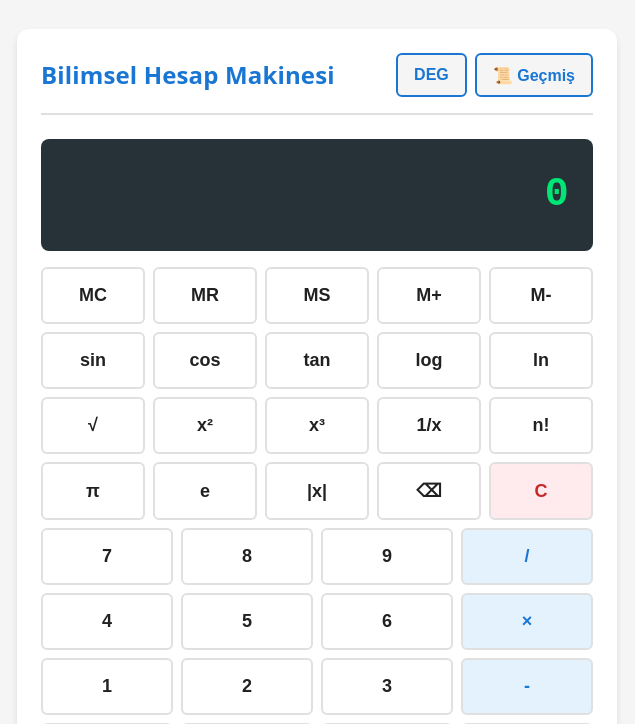
Test: ScientificCalculator › History Management › should toggle history panel
The width and height of the screenshot is (635, 724).
Click the button with aria-label "Geçmişi göster/gizle" at [534, 75], box [475, 53, 593, 97]
(page scrolled)
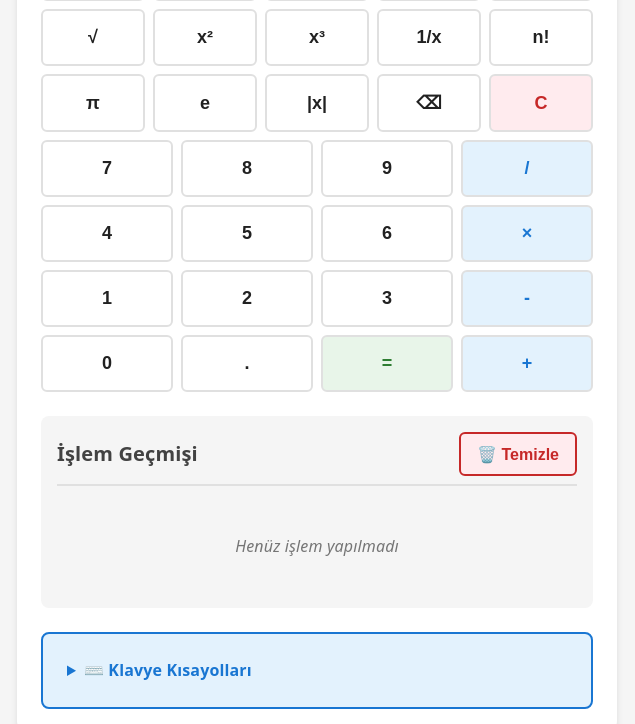
Now the element "İşlem Geçmişi" is shown, box [41, 416, 593, 608]
